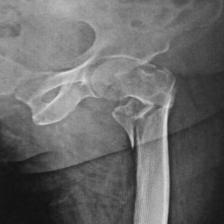comminuted-fracture: (2, 2, 217, 224)
